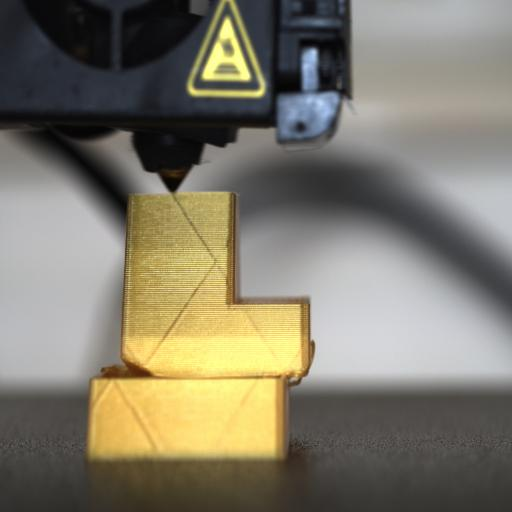layer_shift: (87, 363, 313, 386)
